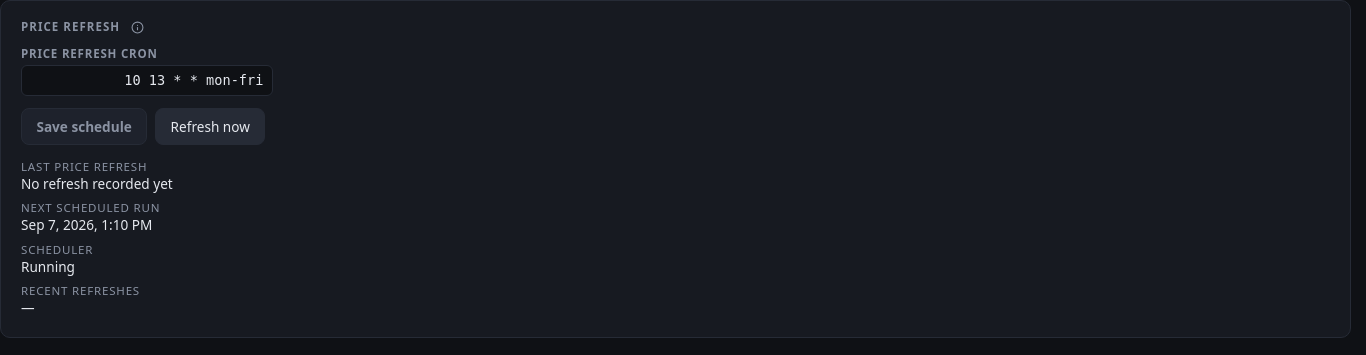
Test case: PriceRefreshCard › saves the cron ALONE and re-reads the facts the save just moved
This screenshot has width=1366, height=355.
Replace the text in the field labelled "Price refresh cron" with "30 14 * * mon-fri". click: coordinates (147, 80)
box: [21,65,273,96]
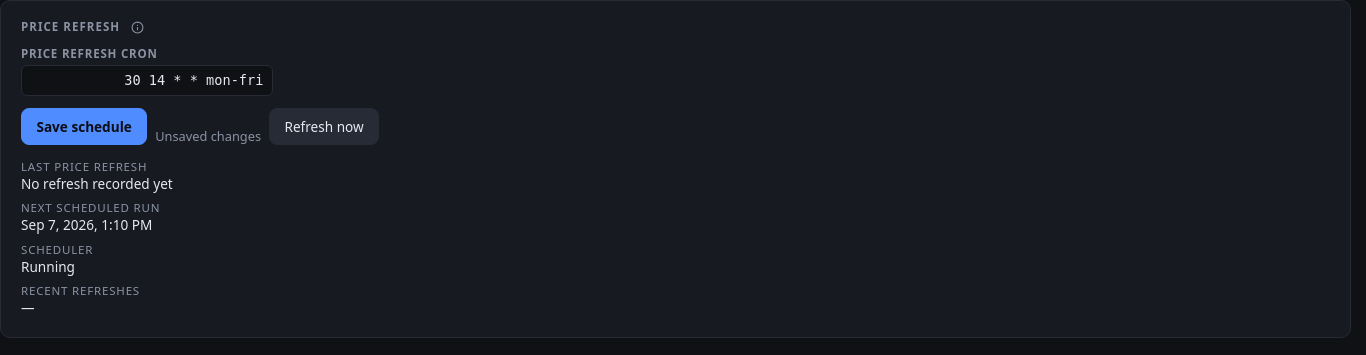
Click the button "Save schedule". click: coordinates (84, 126)
box: [21,108,147,145]
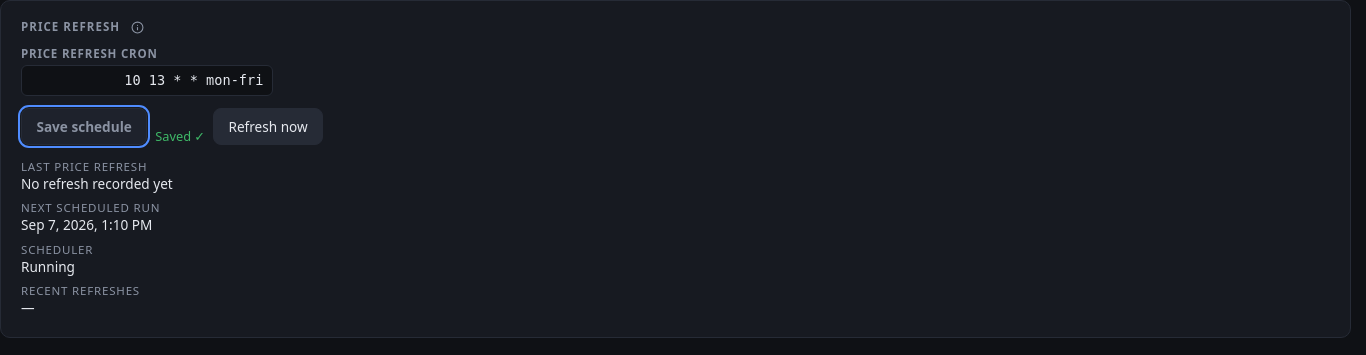
Now the text "Saved ✓" is shown, box [155,128,205,145]
